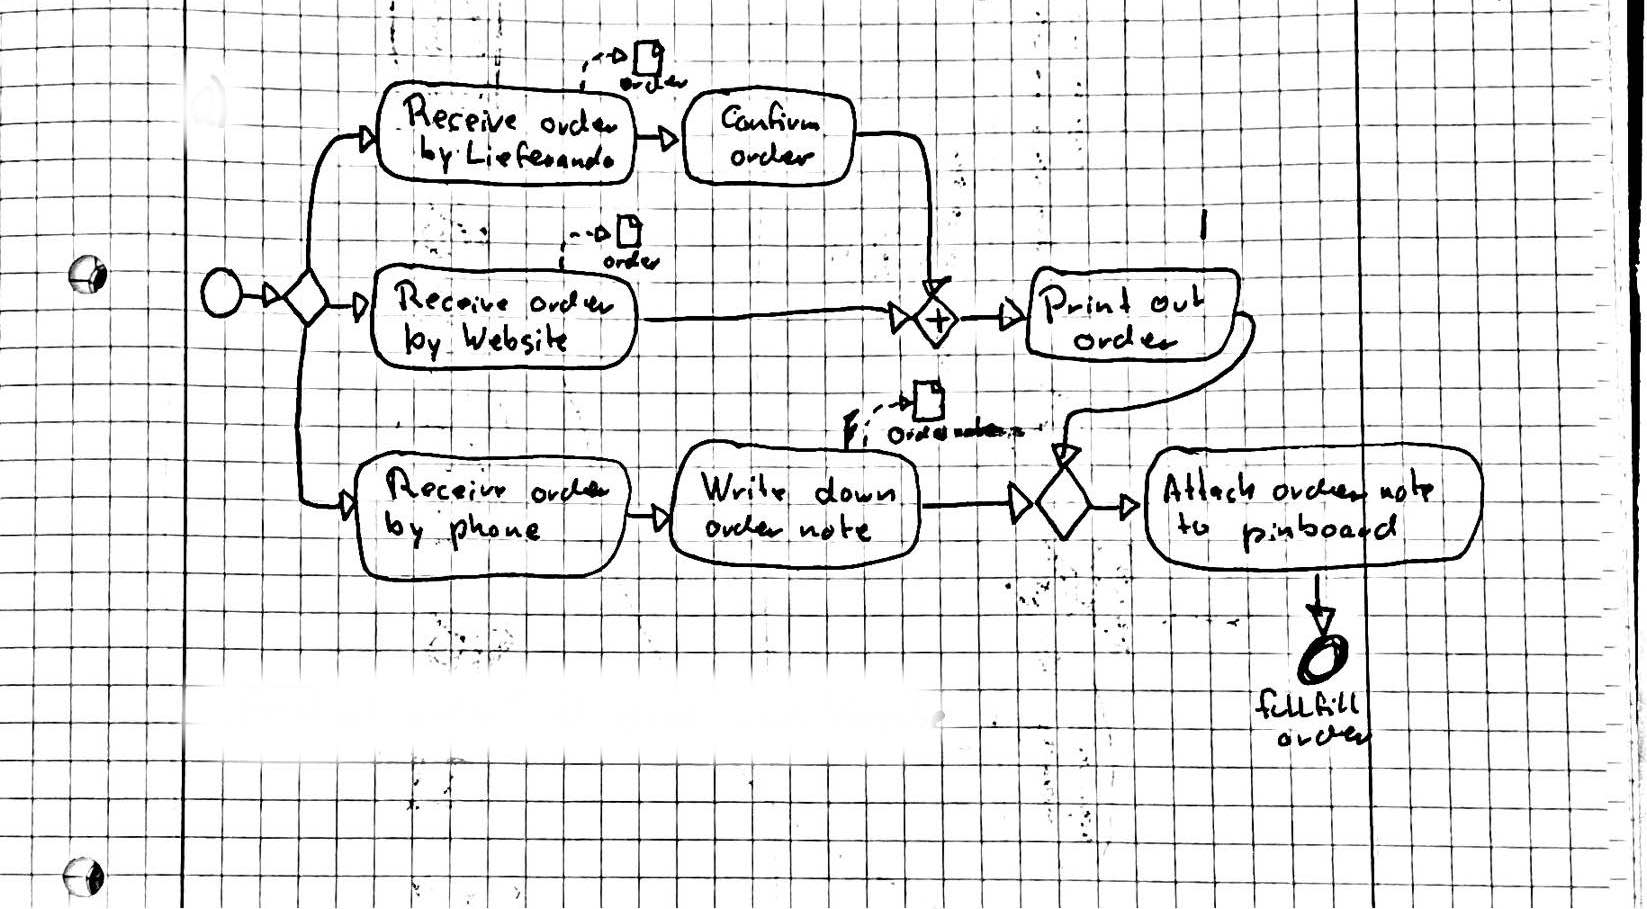Attach: (1157, 467, 1259, 505)
Confirm: (716, 99, 829, 139)
Lieferando: (461, 139, 617, 179)
Print: (1038, 280, 1135, 324)
Receive: (395, 93, 521, 138), (389, 277, 516, 319), (382, 465, 510, 506)
Website: (457, 318, 573, 358)
Write: (689, 466, 796, 508)
by: (393, 319, 449, 363), (382, 510, 435, 553), (415, 133, 458, 176)
down: (812, 471, 900, 509)
fullfill: (1253, 685, 1361, 722)
note: (1375, 463, 1442, 510), (796, 513, 876, 546), (949, 415, 1015, 446)
order: (1071, 318, 1185, 356), (1269, 469, 1368, 507), (526, 469, 614, 507), (524, 284, 617, 320), (1274, 721, 1373, 755), (537, 102, 620, 141), (725, 140, 821, 171), (702, 514, 790, 543), (879, 420, 951, 449), (615, 72, 694, 96), (601, 247, 666, 274)
out: (1148, 278, 1211, 322)
phone: (445, 510, 545, 554)
pinboard: (1237, 510, 1400, 557)
to: (1169, 510, 1221, 544)
